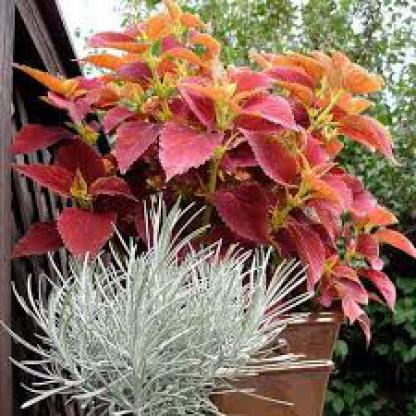Bunga Coleus: (70, 34, 375, 212)
